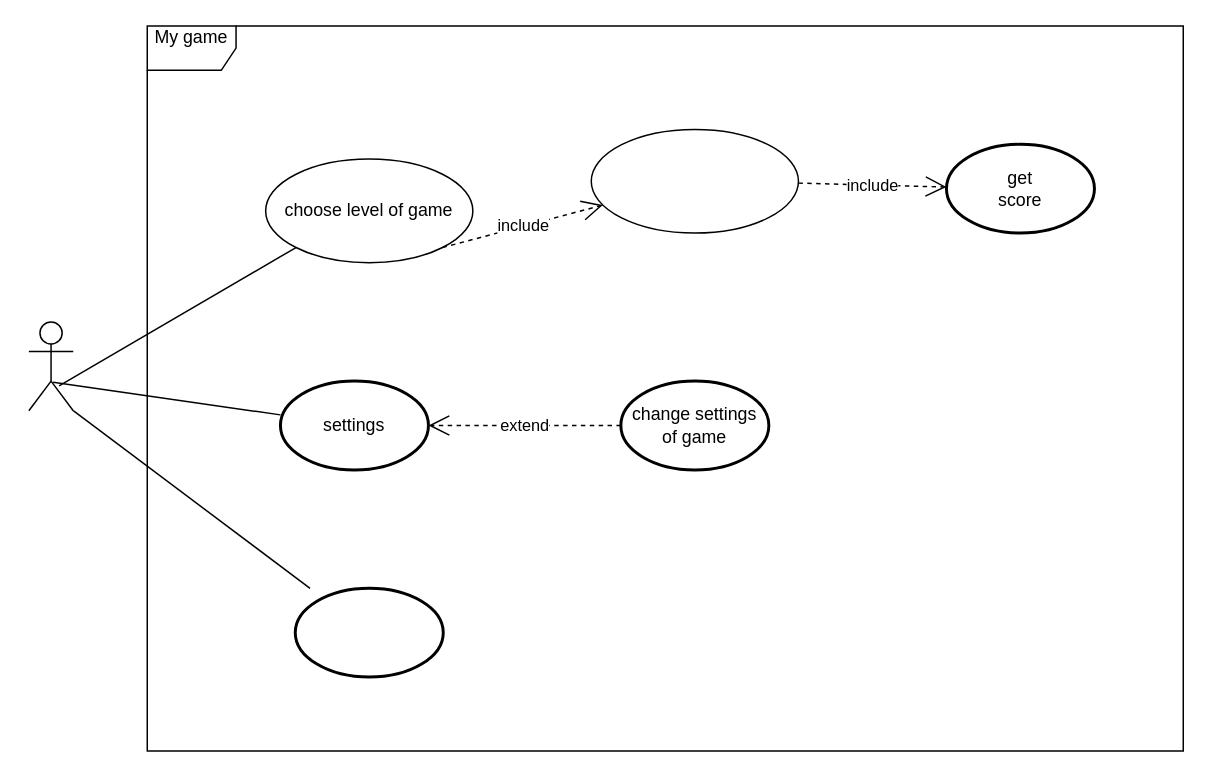
This 1209x777 diagram has some shape labels left out. Each missing label, with the box of its shape:
guide: (293, 586, 444, 678)
Player: (27, 320, 73, 411)
Start Game: (590, 128, 798, 233)
